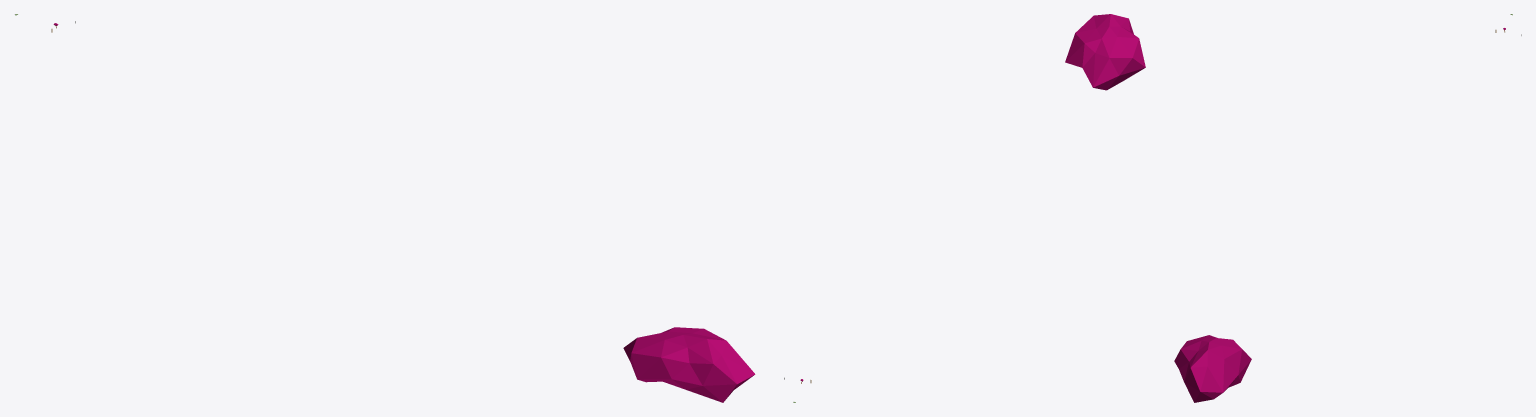
Rendered from plazaPrincipal.glb.
The picture shows the model from 3 angles, left to right: view 1: azimuth 30°, elevation 25°; view 2: azimuth 150°, elevation 25°; view 3: azimuth 330°, elevation 25°; orthographic projection. The views are drawn at different scales.
Parts seen in each view (by area): view 1: SakuraTree_2_Leaves; view 2: SakuraTree_2_Leaves; view 3: SakuraTree_2_Leaves.
Boxes of the visible parts, x1,y1,x2,y2 form: SakuraTree_2_Leaves: (623,327,755,402); SakuraTree_2_Leaves: (1065,14,1145,90); SakuraTree_2_Leaves: (1174,335,1251,402).
Size of the model in its own units: 17094 by 4494 by 82281.
9 materials, 6 textured.
